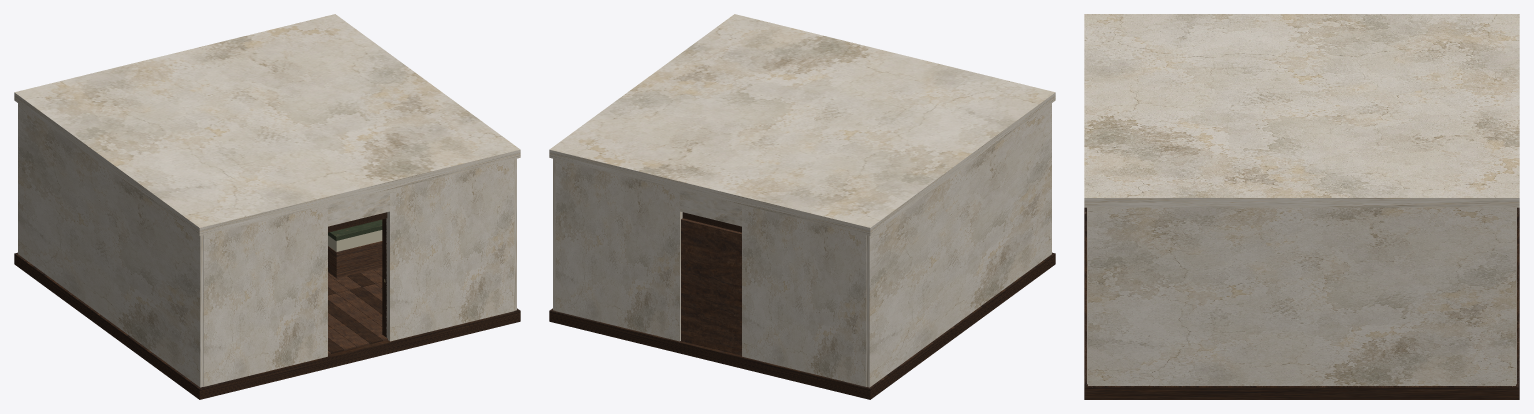
The model's file is guestroom.glb.
The picture shows the model from 3 angles, left to right: view 1: azimuth 30°, elevation 25°; view 2: azimuth 150°, elevation 25°; view 3: azimuth 270°, elevation 25°; orthographic projection. The views are drawn at different scales.
Visible parts, largest first — view 1: ceiling, part_72, part_111, part_108, floor, bed_base, part_114, part_44, part_41, mattress, part_116, blanket (+3 smaller); view 2: ceiling, part_72, part_101, part_98, exit_door, floor, part_104, part_85; view 3: ceiling, part_85, floor.
Boxes of the visible parts, <box> form: ceiling: <box>14,14,520,235</box>; part_72: <box>18,103,203,387</box>; part_111: <box>386,159,514,341</box>; part_108: <box>203,205,327,386</box>; floor: <box>14,252,520,399</box>; bed_base: <box>328,241,382,278</box>; part_114: <box>328,189,389,226</box>; part_44: <box>328,293,387,341</box>; part_41: <box>328,300,382,344</box>; mattress: <box>328,230,382,251</box>; part_116: <box>382,218,386,337</box>; blanket: <box>328,219,382,241</box>; ceiling: <box>549,14,1055,235</box>; part_72: <box>866,103,1051,387</box>; part_101: <box>555,159,682,341</box>; part_98: <box>742,205,866,386</box>; exit_door: <box>681,218,741,355</box>; floor: <box>549,252,1055,399</box>; part_104: <box>680,189,741,226</box>; part_85: <box>553,158,555,310</box>; ceiling: <box>1084,14,1519,207</box>; part_85: <box>1088,207,1515,385</box>; floor: <box>1084,207,1519,399</box>.
Bounding box in the file's own units: 6.2 × 3.18 × 6.2.
Materials: 8 (4 with a texture image).
